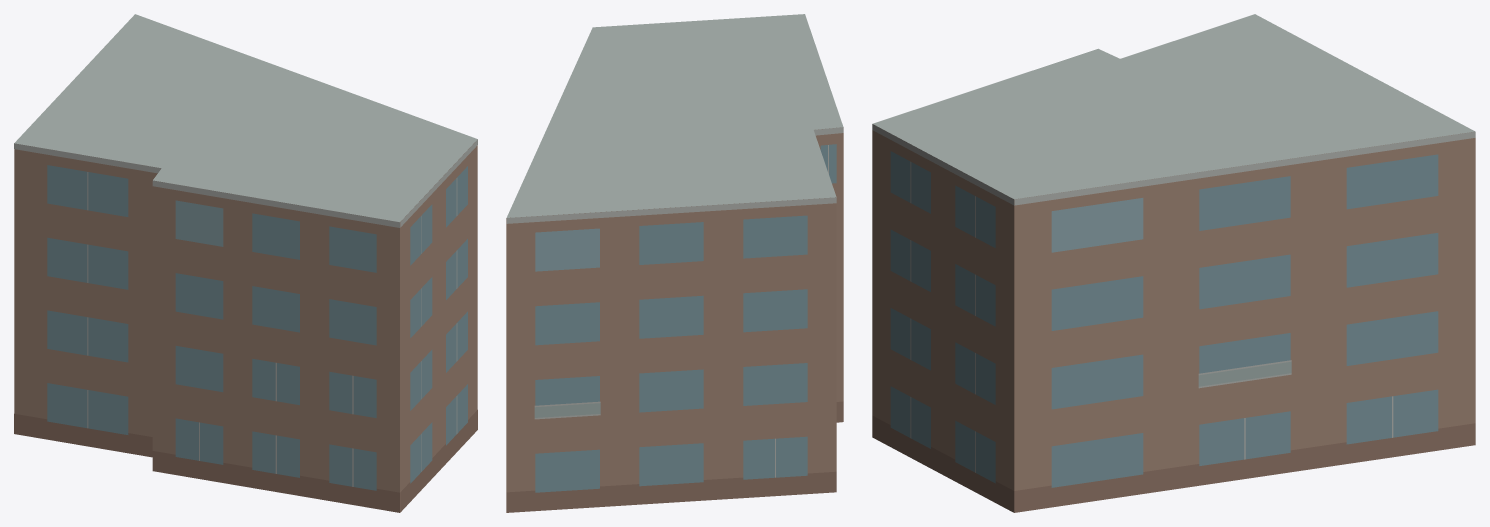
Rendered from survey-upis-32849716.glb.
The picture shows the model from 3 angles, left to right: view 1: azimuth 30°, elevation 25°; view 2: azimuth 150°, elevation 25°; view 3: azimuth 270°, elevation 25°; orthographic projection. The views are drawn at different scales.
Parts seen in each view (by area): view 1: survey-upis-32849716.tmp; view 2: survey-upis-32849716.tmp; view 3: survey-upis-32849716.tmp.
Boxes of the visible parts, x1,y1,x2,y2 form: survey-upis-32849716.tmp: [14, 14, 477, 512]; survey-upis-32849716.tmp: [506, 14, 843, 512]; survey-upis-32849716.tmp: [872, 14, 1475, 512].
Bounding box in the file's own units: 15.47 × 12.2 × 21.28.
